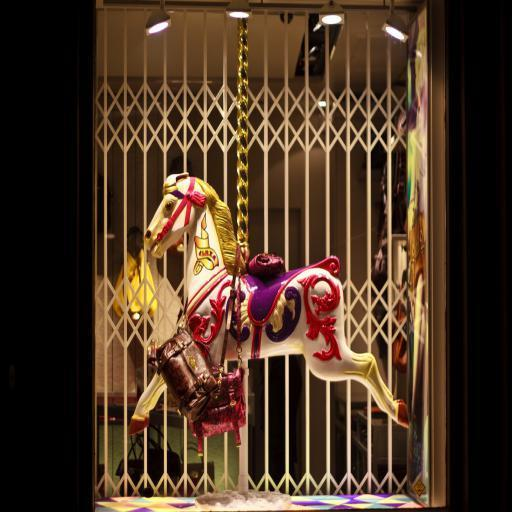horse: (128, 170, 409, 436)
